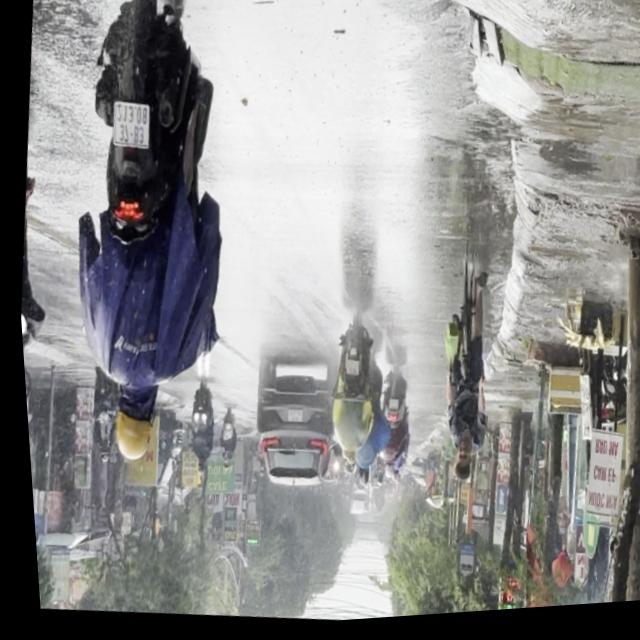helmet: (99, 388, 153, 466)
licenseplate: (34, 0, 255, 479)
nohelmet: (107, 102, 148, 150)
